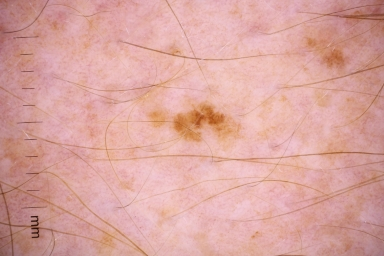nevus: (171, 105, 225, 141)
